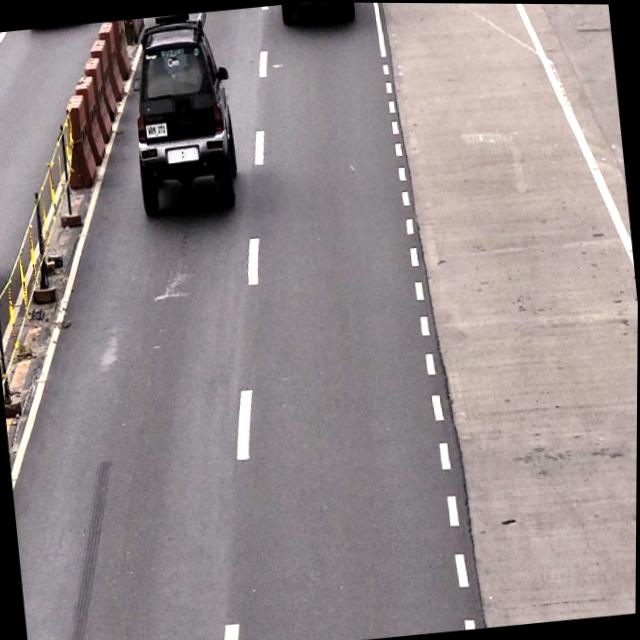Car: (123, 9, 244, 220)
License-Plate: (144, 121, 168, 139)
